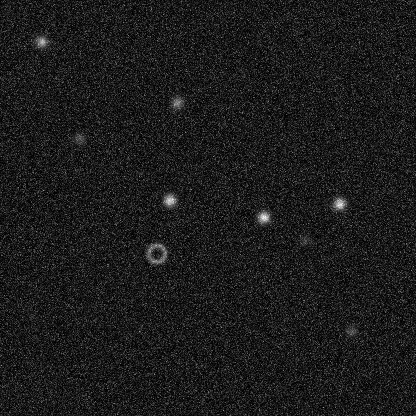Ring: (144, 241, 168, 265)
Spot: (70, 130, 86, 146), (331, 195, 347, 211), (296, 232, 312, 248), (343, 322, 359, 338), (255, 209, 271, 225), (33, 33, 49, 49), (169, 94, 185, 110), (161, 192, 177, 208)
